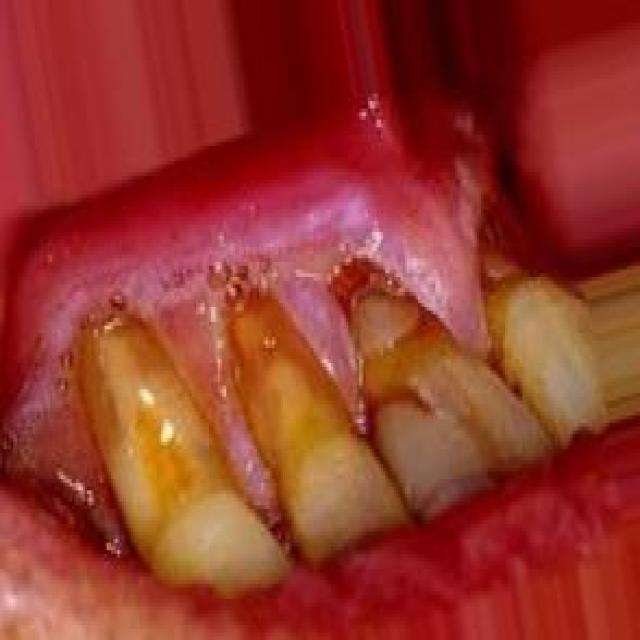caries: (341, 246, 432, 372)
